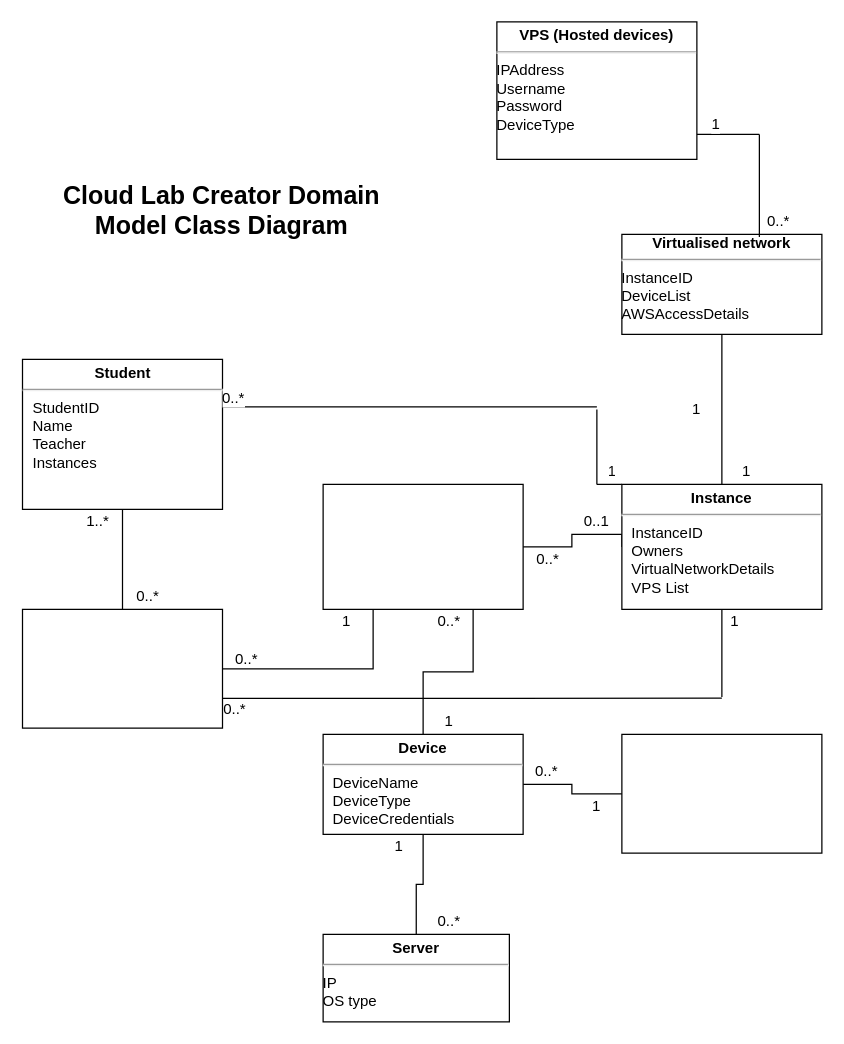
Some shapes in this 844 by 1044 pixel diagram are drawn without their labels. Here are the shapes that lost their labels. From the top down, the centre of each, then its label:
At (422,546): "Template TemplateName Servers NetworkDevices".
At (121,668): "Teacher TeacherID Templates Instances Students".
At (721,793): "NetworkComponent ComponentType ComponentConfiguration".
